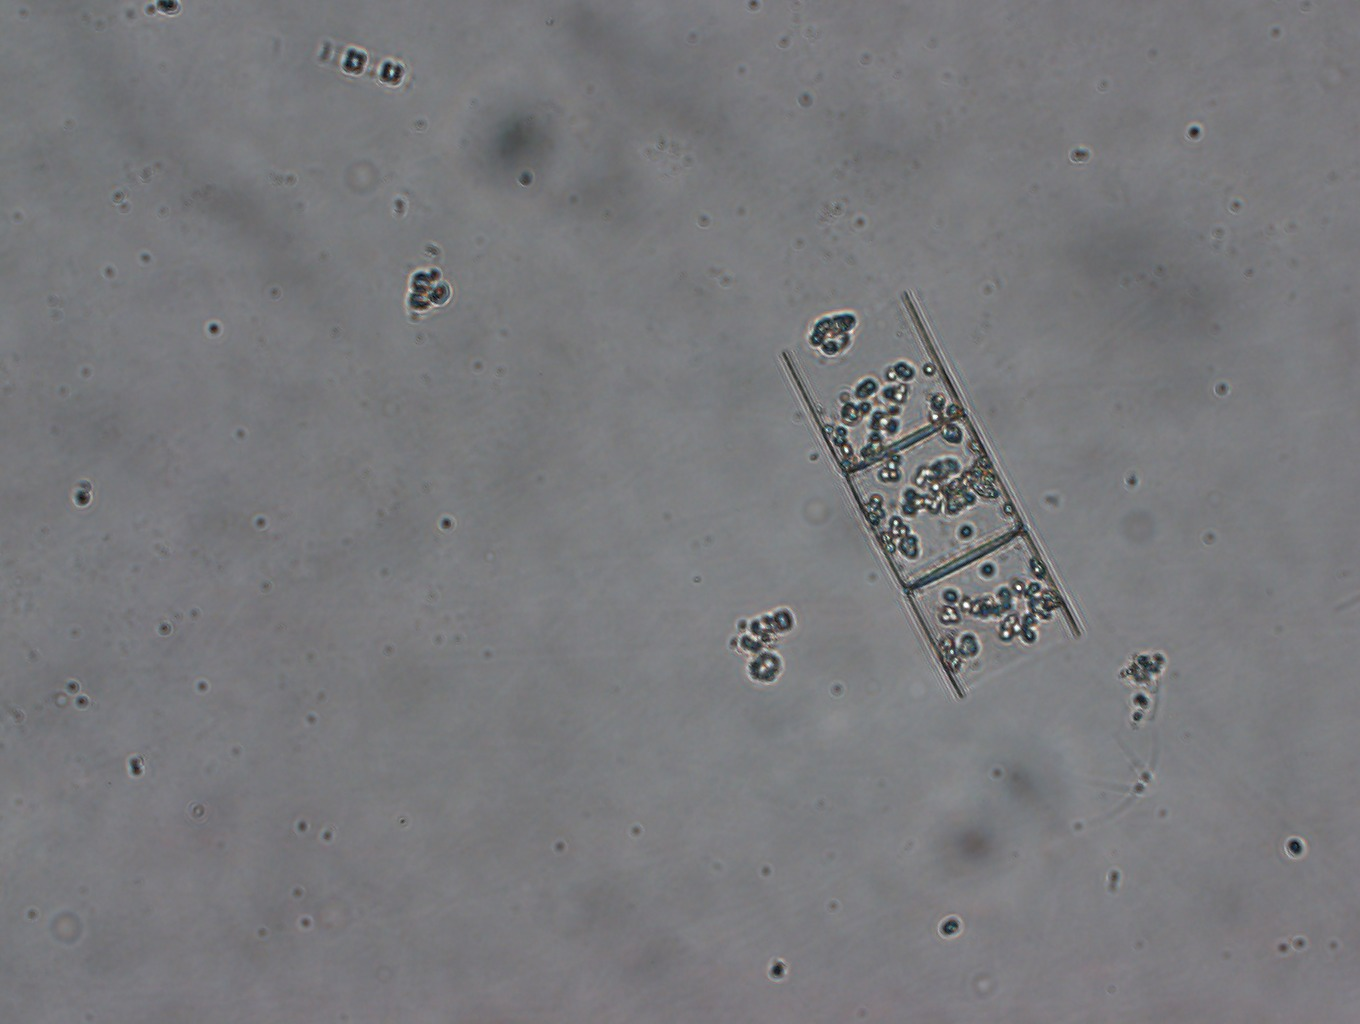guinardia flaccida: (778, 290, 1083, 700)
